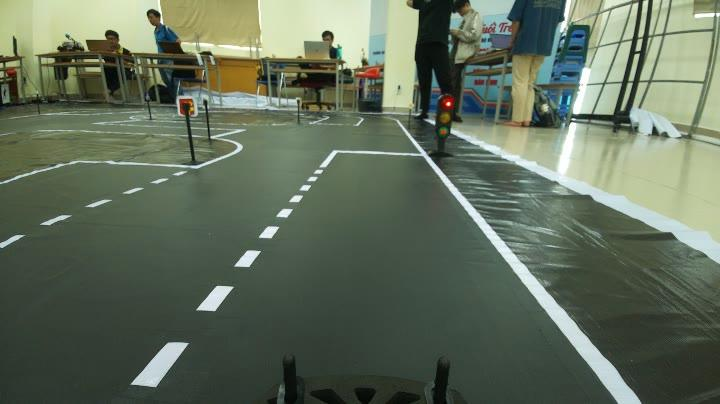trafficlight: (426, 89, 462, 165)
